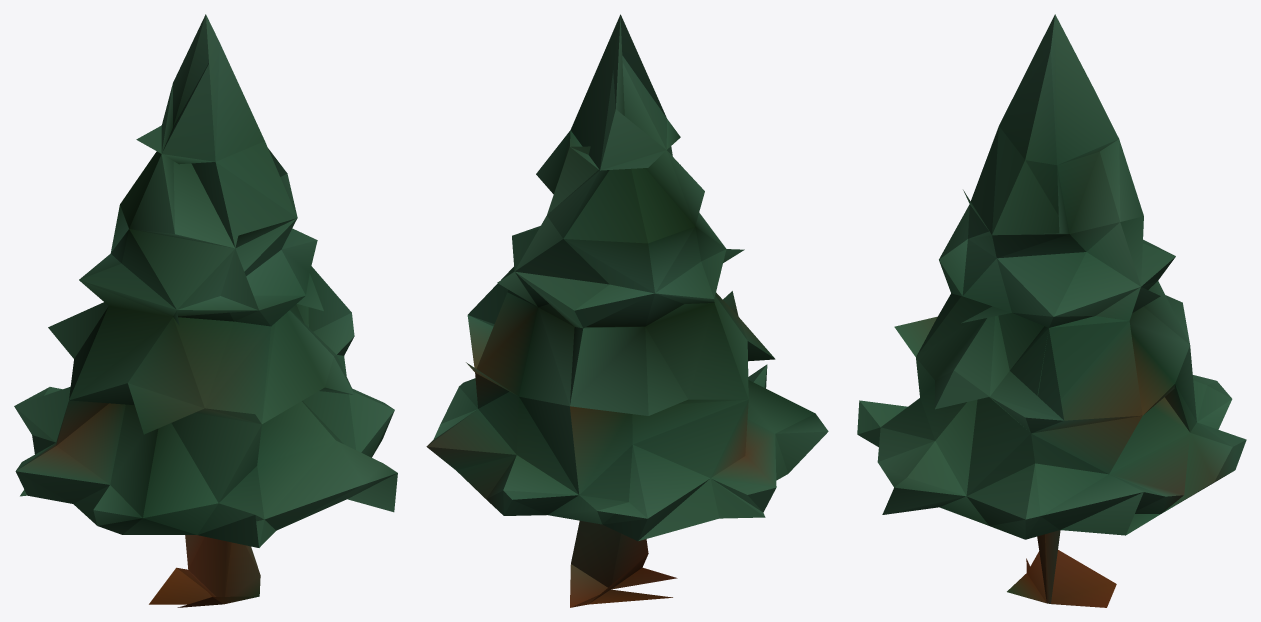
Rendered from pine.glb.
The picture shows the model from 3 angles, left to right: view 1: azimuth 30°, elevation 25°; view 2: azimuth 150°, elevation 25°; view 3: azimuth 270°, elevation 25°; orthographic projection.
Visible parts, largest first — view 1: pine-far; view 2: pine-far; view 3: pine-far.
Part boxes in pixels (left/top/right/bottom): pine-far: left=14, top=14, right=397, bottom=607; pine-far: left=426, top=14, right=828, bottom=607; pine-far: left=857, top=14, right=1246, bottom=607.
Bounding box in the file's own units: 0.6175 × 1 × 0.6058.
